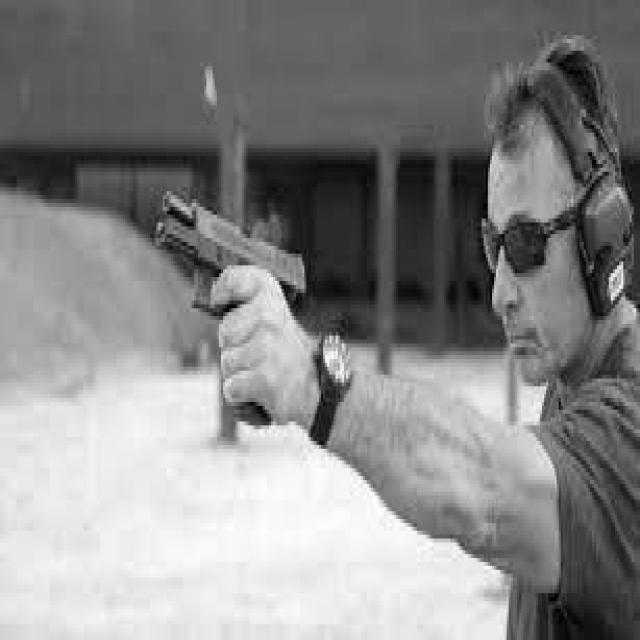gun: (154, 194, 304, 427)
